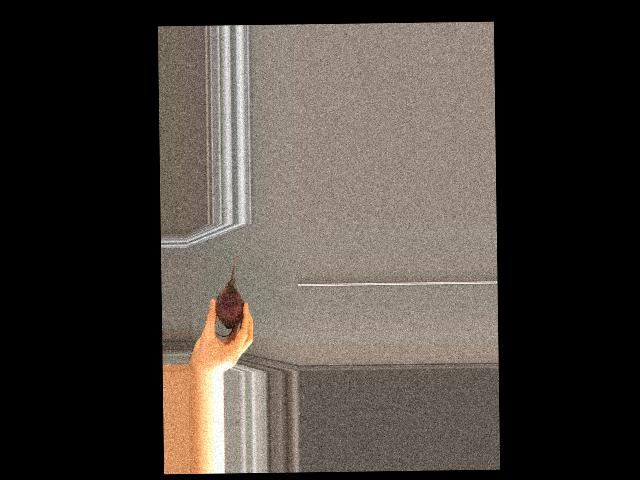beet: (214, 248, 243, 336)
